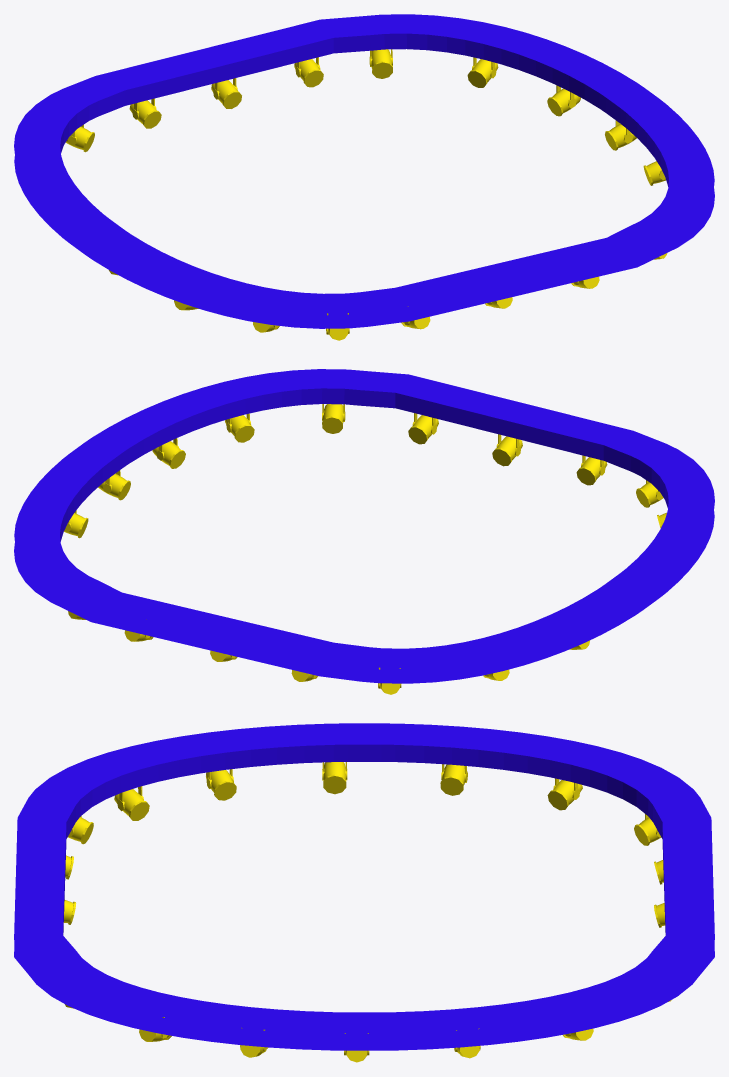
File: FocosBajos1.FBX
3 views of the same model, one above another, from view 1: azimuth 30°, elevation 25°; view 2: azimuth 150°, elevation 25°; view 3: azimuth 270°, elevation 25° (orthographic). The views are drawn at different scales.
Visible parts, largest first — view 1: FocosSoporte, Foco012, Foco011, Foco015, Foco014, Foco013, Foco016, Foco017; view 2: FocosSoporte, Foco1, Foco002, Foco020, Foco003, Foco018, Foco019, Foco017; view 3: FocosSoporte, Foco005, Foco007, Foco009, Foco006, Foco008.
Part boxes in pixels (x1=…): FocosSoporte: x1=14, y1=14, x2=714, y2=328; Foco012: x1=211, y1=78, x2=241, y2=108; Foco011: x1=129, y1=98, x2=161, y2=128; Foco015: x1=467, y1=57, x2=498, y2=87; Foco014: x1=369, y1=49, x2=392, y2=78; Foco013: x1=294, y1=57, x2=323, y2=87; Foco016: x1=547, y1=85, x2=580, y2=116; Foco017: x1=605, y1=120, x2=636, y2=150; FocosSoporte: x1=14, y1=369, x2=714, y2=683; Foco1: x1=492, y1=434, x2=522, y2=466; Foco002: x1=408, y1=413, x2=438, y2=444; Foco020: x1=322, y1=404, x2=345, y2=433; Foco003: x1=576, y1=455, x2=607, y2=485; Foco018: x1=152, y1=438, x2=185, y2=468; Foco019: x1=225, y1=413, x2=254, y2=442; Foco017: x1=98, y1=470, x2=130, y2=500; FocosSoporte: x1=14, y1=723, x2=714, y2=1050; Foco005: x1=114, y1=786, x2=149, y2=820; Foco007: x1=322, y1=762, x2=347, y2=794; Foco009: x1=547, y1=778, x2=582, y2=810; Foco006: x1=440, y1=764, x2=467, y2=795; Foco008: x1=206, y1=769, x2=236, y2=800.
Size of the model in its own units: 298 by 21.84 by 285.
